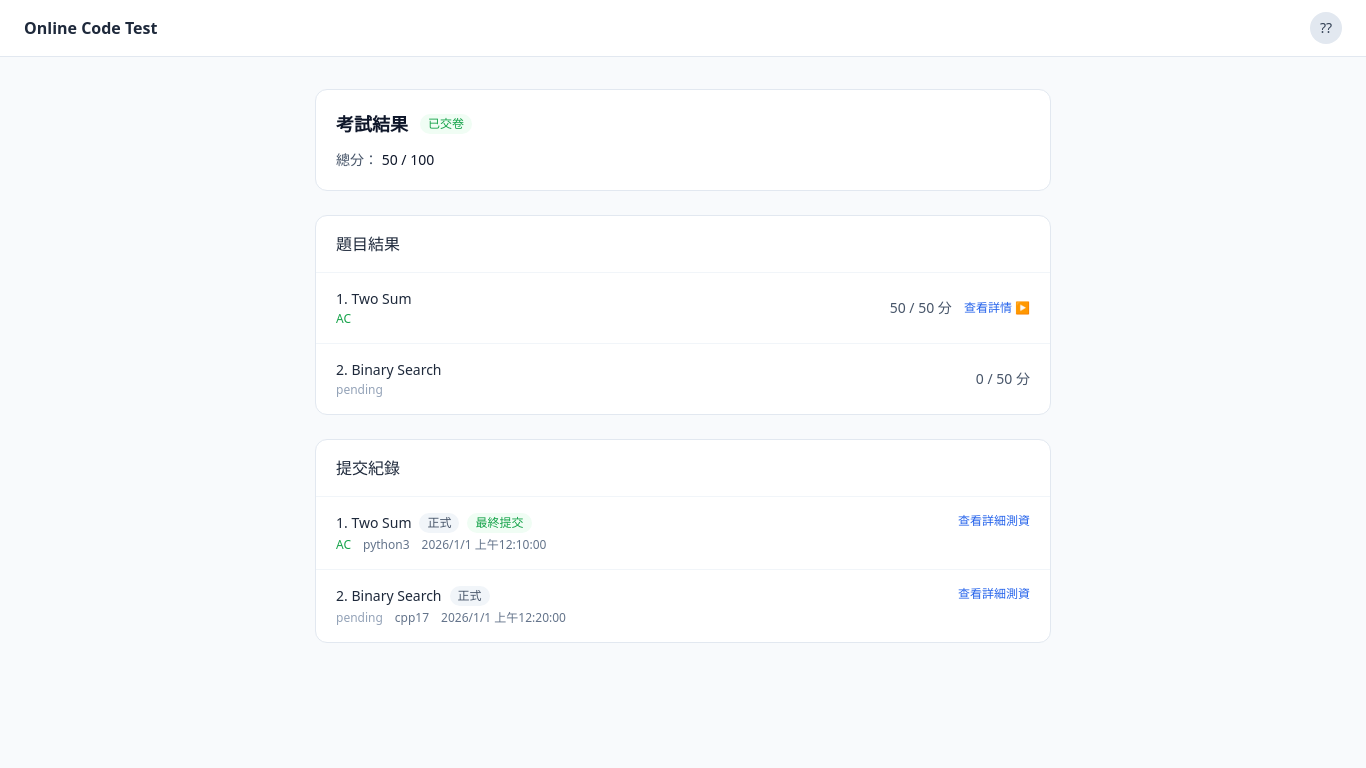
CandidateResultPage › shows loading state while fetching history submission detail
This screenshot has width=1366, height=768.
Click the button with aria-label "查看詳細測資：提交 9001": {"x": 994, "y": 521} [958,513,1030,529]
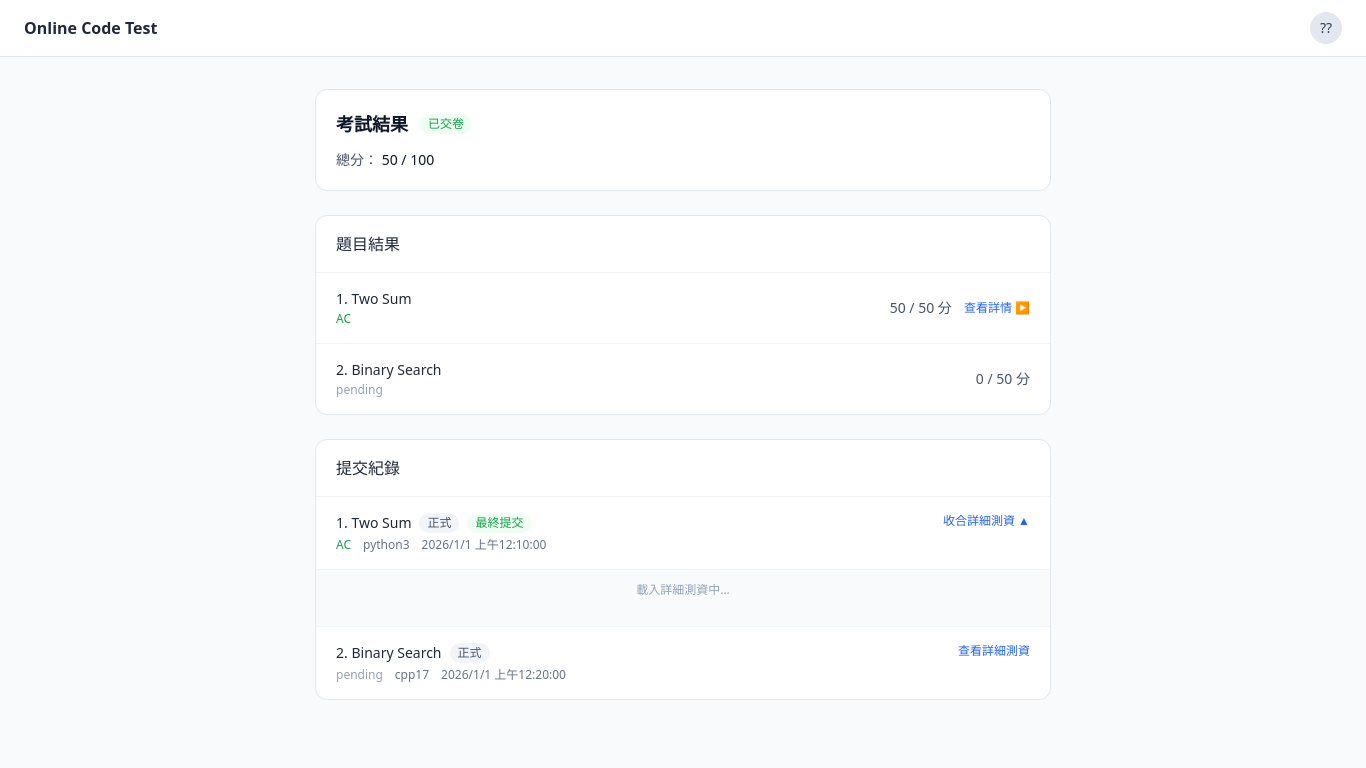
Expected: the text "載入詳細測資中..." is shown, [636,581,730,598]
